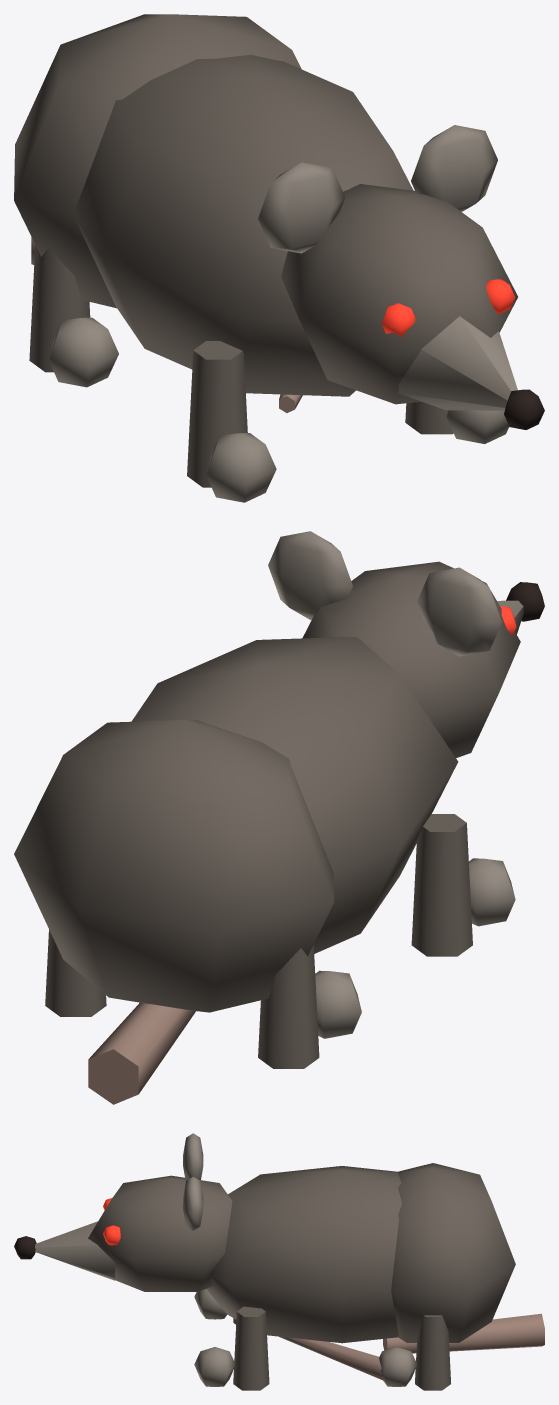
Rendered from rat.glb.
The picture shows the model from 3 angles, top to bottom: view 1: azimuth 30°, elevation 25°; view 2: azimuth 150°, elevation 25°; view 3: azimuth 270°, elevation 25°; orthographic projection. The views are drawn at different scales.
Parts seen in each view (by area): view 1: rat_body, rat_head, rat_haunch, rat_leg (×3), rat_ear (×2), rat_paw (×3), rat_snout, rat_eye (×2), rat_nose; view 2: rat_haunch, rat_body, rat_head, rat_leg (×3), rat_ear (×2), rat_tail_a, rat_paw (×2), rat_nose; view 3: rat_body, rat_haunch, rat_head, rat_leg (×2), rat_paw (×3), rat_tail_a, rat_snout, rat_ear (×2), rat_tail_b, rat_nose.
Part boxes in pixels (x1,y1,x2,y2): rat_body: (73,54,413,396); rat_head: (281,184,517,404); rat_haunch: (14,14,301,308); rat_leg (×3): (29,245,453,487); rat_ear (×2): (258,125,497,253); rat_paw (×3): (49,317,509,502); rat_snout: (398,316,517,410); rat_eye (×2): (382,279,515,336); rat_nose: (504,389,544,429); rat_haunch: (14,720,334,1012); rat_body: (131,637,458,953); rat_head: (302,561,520,757); rat_leg (×3): (45,814,472,1068); rat_ear (×2): (268,531,501,656); rat_tail_a: (88,1002,195,1104); rat_paw (×2): (315,858,515,1038); rat_nose: (506,582,544,621); rat_body: (206,1166,401,1343); rat_haunch: (391,1163,515,1342); rat_head: (88,1175,232,1291); rat_leg (×2): (233,1306,450,1390); rat_paw (×3): (194,1289,416,1386); rat_tail_a: (383,1313,544,1353); rat_snout: (35,1221,114,1280); rat_ear (×2): (183,1133,203,1230); rat_tail_b: (279,1336,385,1381); rat_nose: (14,1236,36,1259).
Size of the model in its own units: 0.556 by 0.6 by 1.46.
